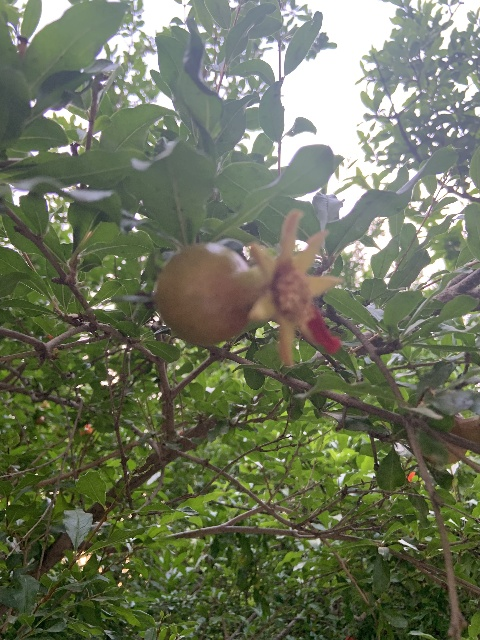early-fruit: (154, 210, 344, 367)
